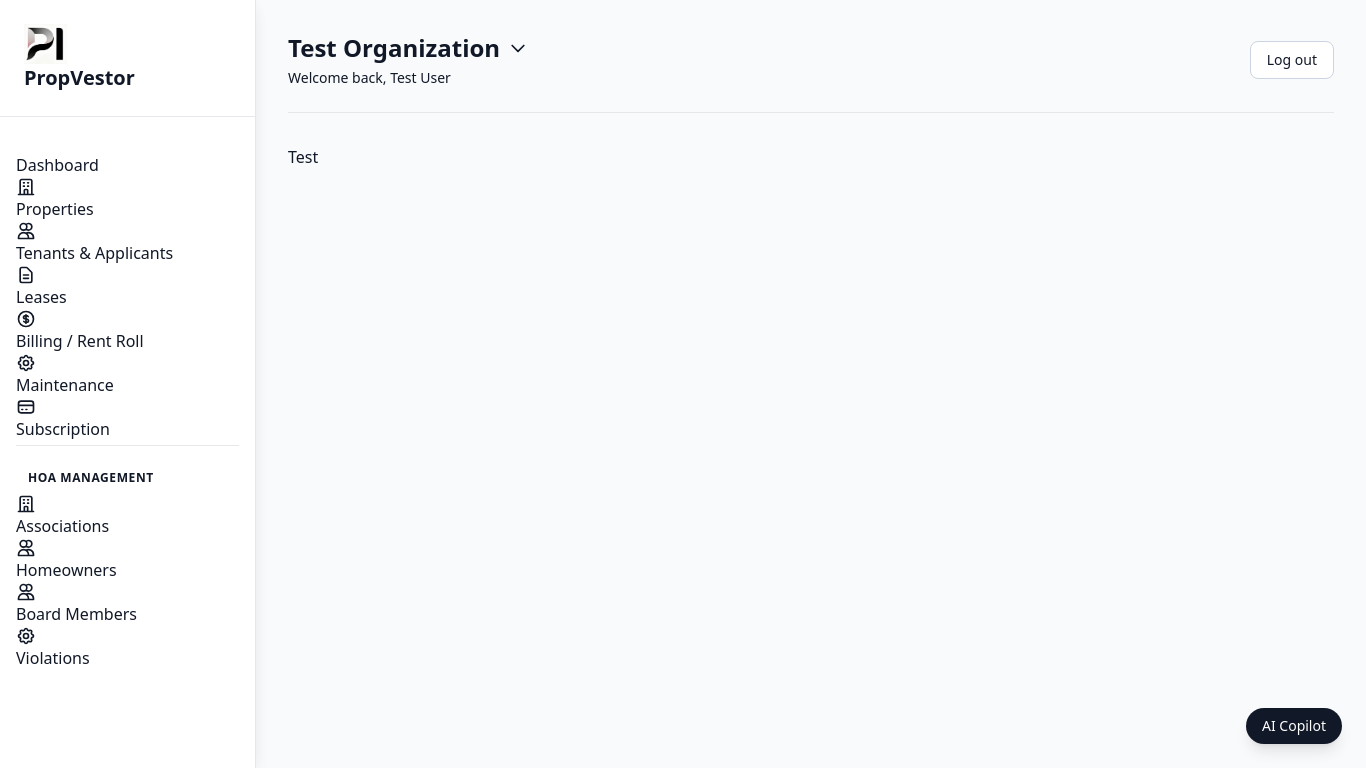
Layout › should show create organization form when button is clicked
The width and height of the screenshot is (1366, 768).
Click the button "Test Organization": (408, 48) [288,32,528,64]
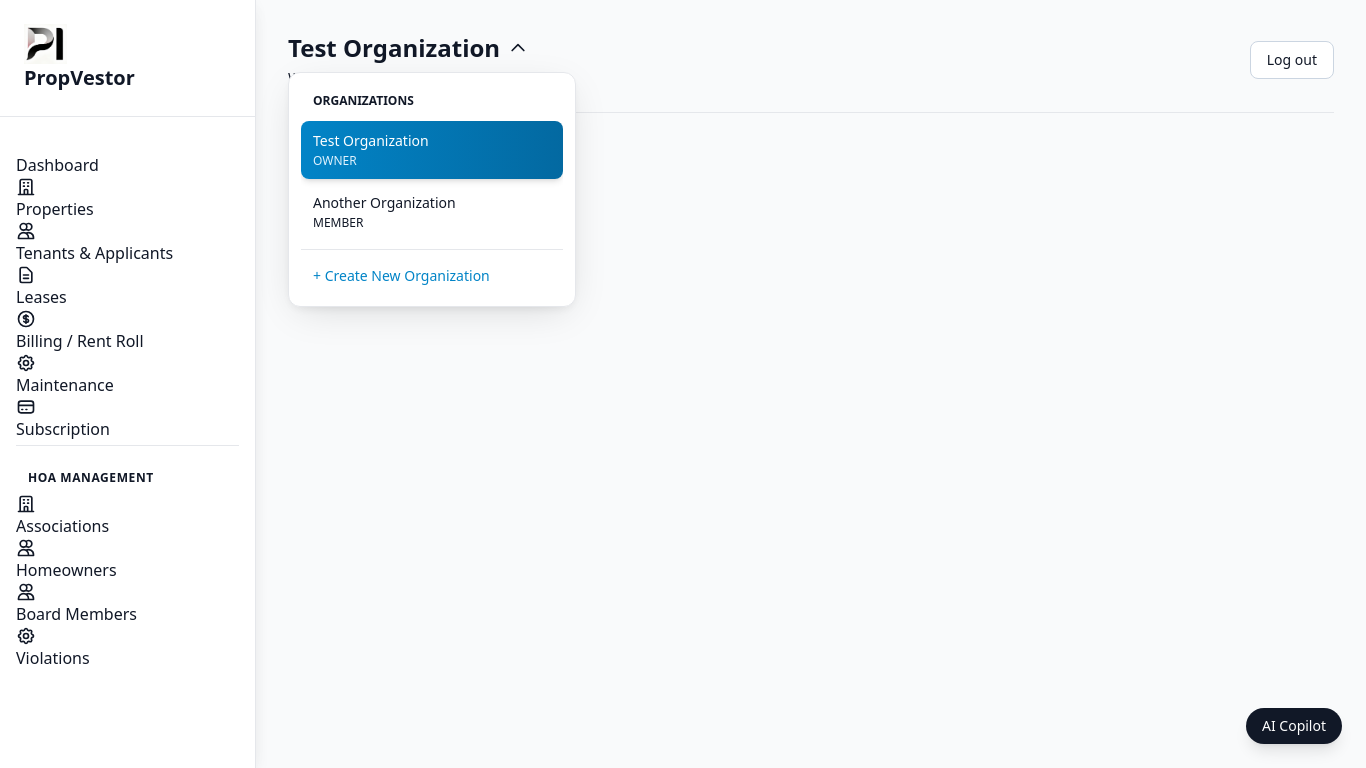
Click the button "+ Create New Organization": (432, 276) [301,258,563,294]
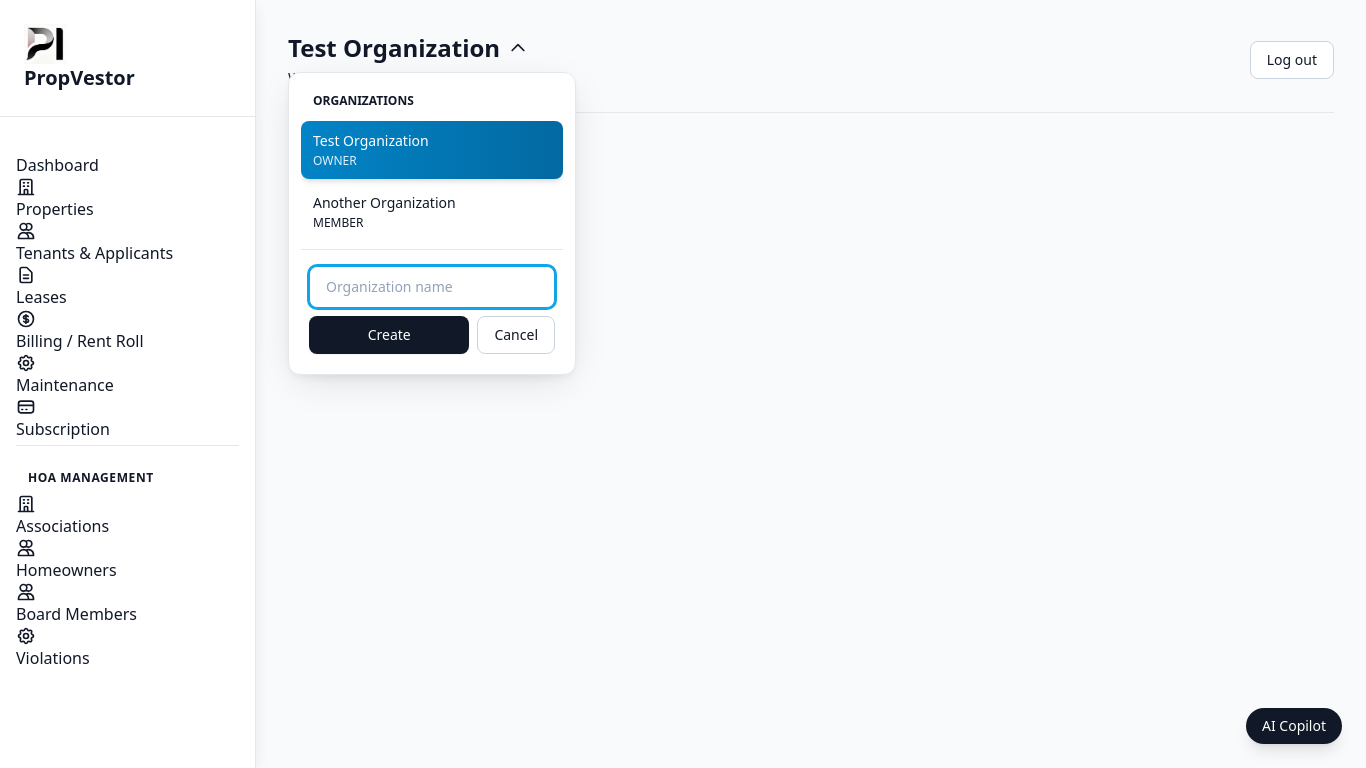
Expected: the field with placeholder "Organization name" is shown, [309,266,555,308]
